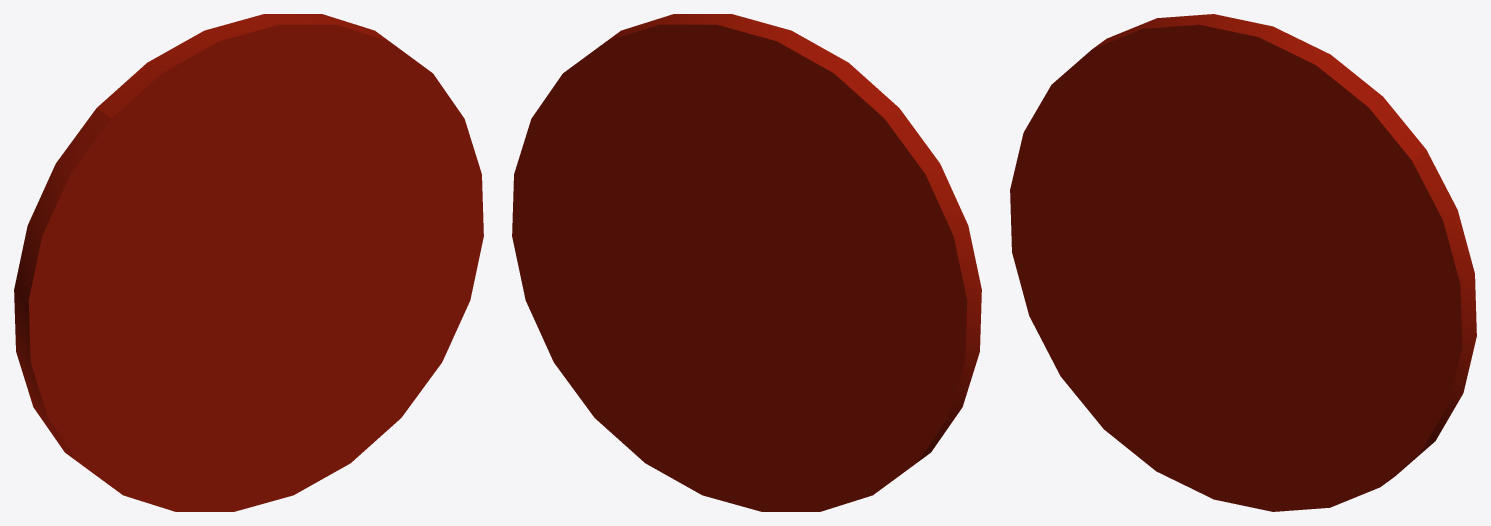
Rendered from module-timer-05.glb.
3 renders of one model, left to right at view 1: azimuth 30°, elevation 25°; view 2: azimuth 150°, elevation 25°; view 3: azimuth 330°, elevation 25°, orthographic.
Parts seen in each view (by area): view 1: Mesh_0; view 2: Mesh_0; view 3: Mesh_0.
Part boxes in pixels (left/top/right/bottom): Mesh_0: left=14, top=14, right=483, bottom=511; Mesh_0: left=512, top=14, right=981, bottom=511; Mesh_0: left=1010, top=14, right=1476, bottom=511.
Bounding box in the file's own units: 1.79 × 1.79 × 0.1.
1 material, 1 textured.
